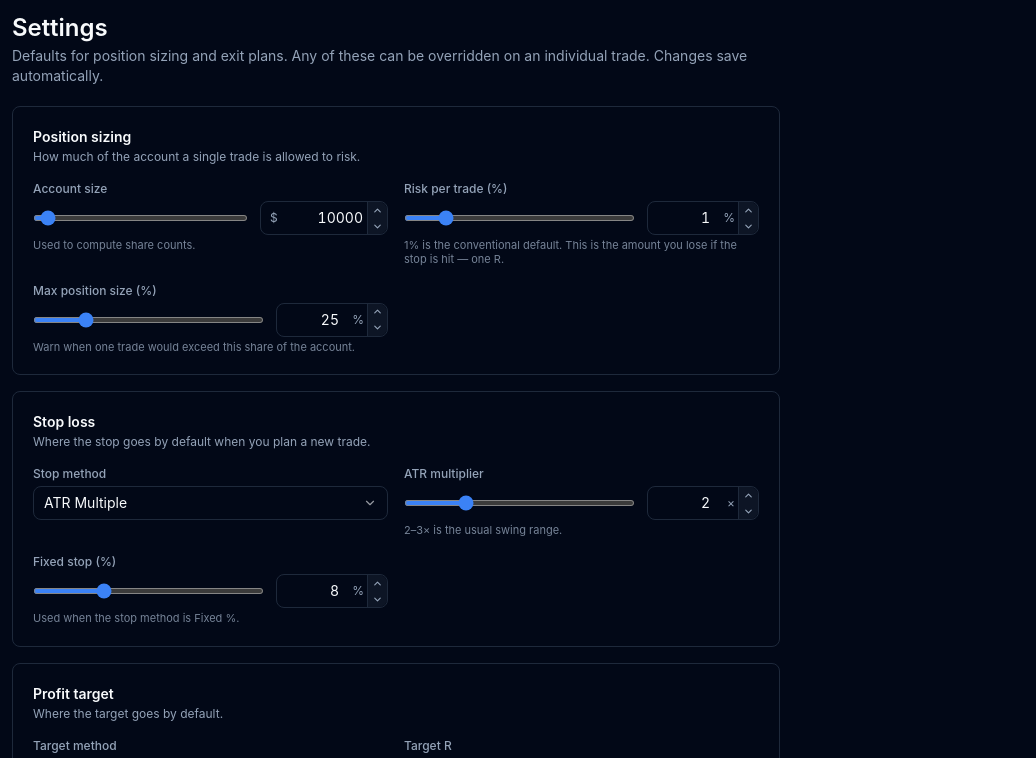
Scenario: SettingsPage › marks an invalid value red and never sends it
The image size is (1036, 758).
Replace the text in the field named "Max position percent" with "150" at {"x": 332, "y": 320}, box [276,302,388,336]
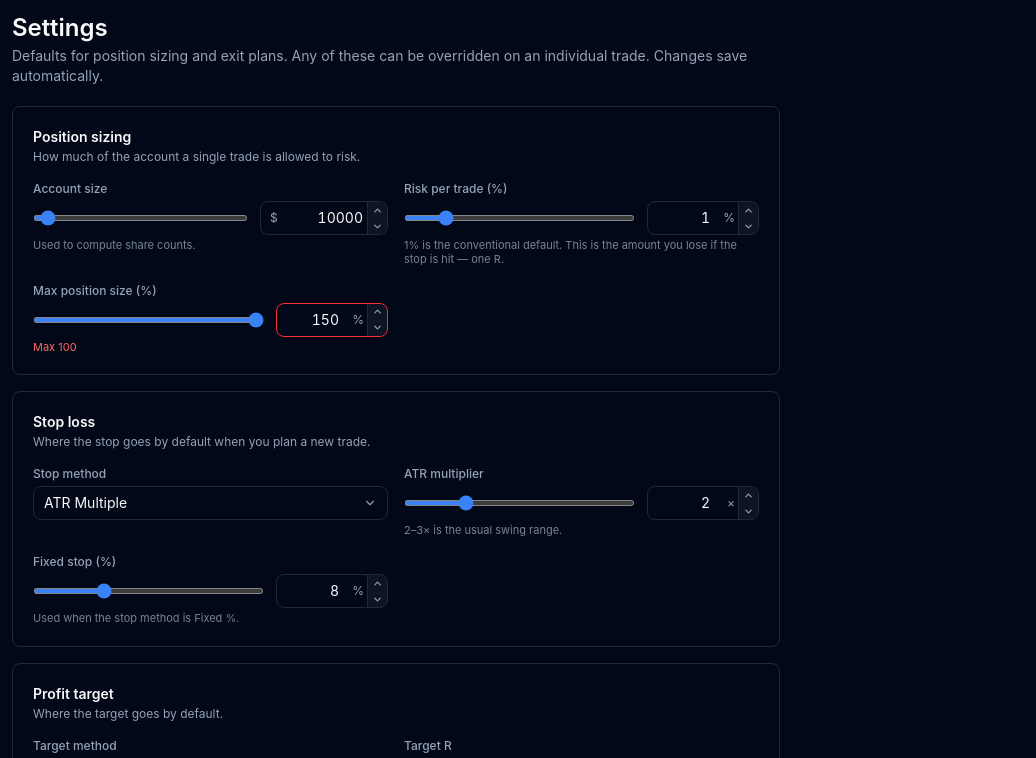
Expected: the text "Max 100" is shown, [33,340,77,354]
